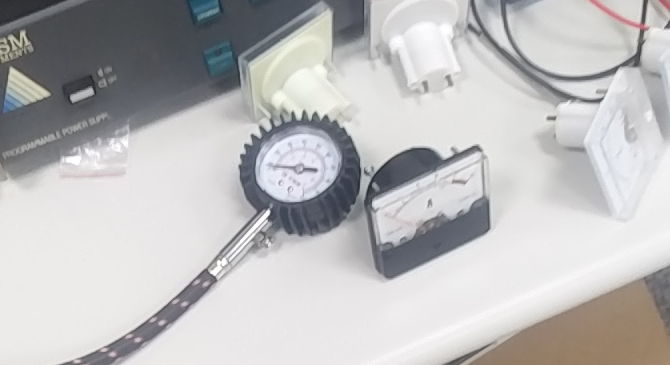Amp_Meter: (372, 146, 486, 247)
Round_Meter: (256, 124, 343, 203)
